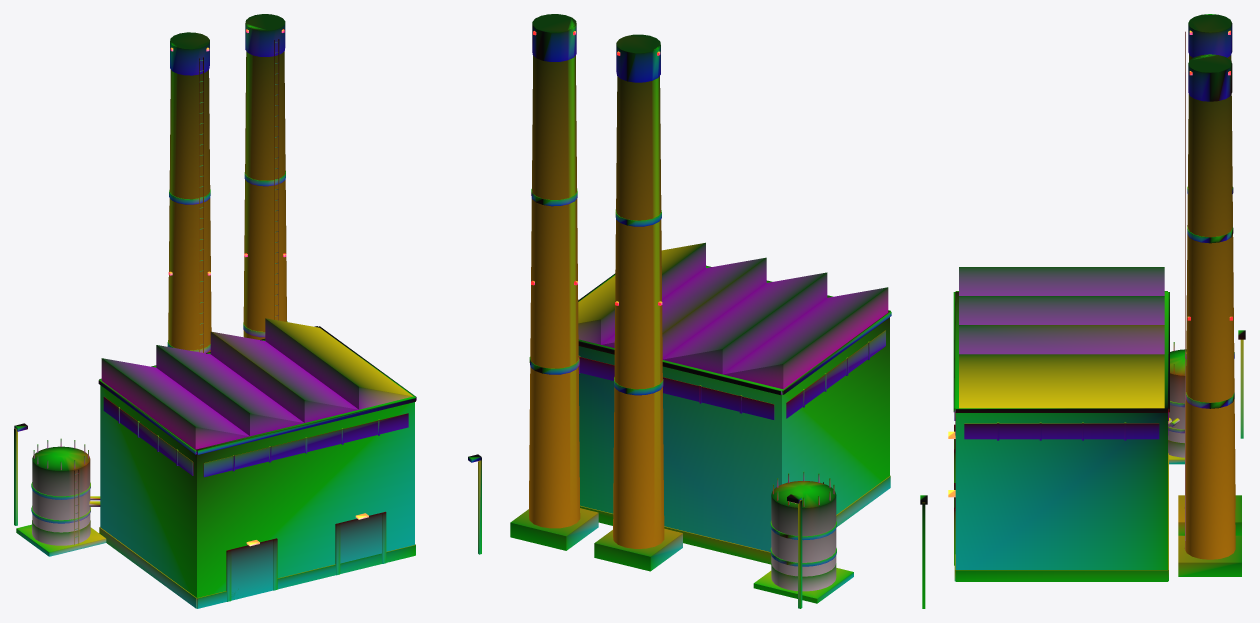
File: Ind_Stacks_V9.fbx
3 renders of one model, left to right at view 1: azimuth 30°, elevation 25°; view 2: azimuth 150°, elevation 25°; view 3: azimuth 270°, elevation 25°, orthographic. The views are drawn at different scales.
Visible parts, largest first — view 1: Ind_Stacks_V9_LOD0; view 2: Ind_Stacks_V9_LOD0; view 3: Ind_Stacks_V9_LOD0.
Part boxes in pixels (<box>): Ind_Stacks_V9_LOD0: <box>14,14,481,608</box>; Ind_Stacks_V9_LOD0: <box>510,14,891,608</box>; Ind_Stacks_V9_LOD0: <box>920,14,1245,608</box>.
Size of what is drawn, in the model's own units: 39.05 by 52 by 30.7.
